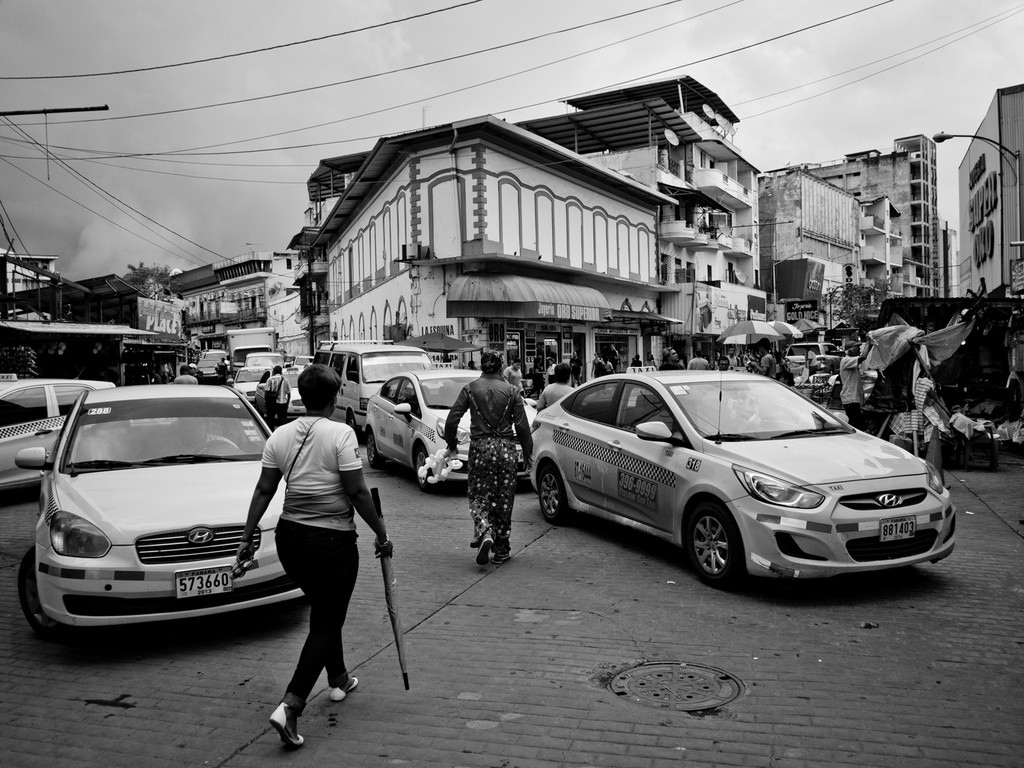Car: (535, 365, 960, 579), (10, 386, 305, 648), (364, 370, 538, 488), (0, 381, 111, 489), (225, 357, 307, 410), (784, 337, 840, 374), (232, 366, 272, 405), (286, 370, 312, 421), (195, 348, 229, 380), (291, 358, 310, 368)
